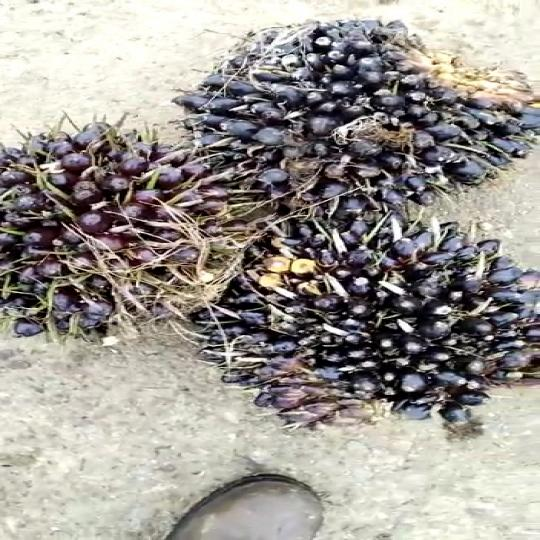mentah: (157, 19, 540, 229), (221, 210, 540, 416), (0, 122, 244, 360)
